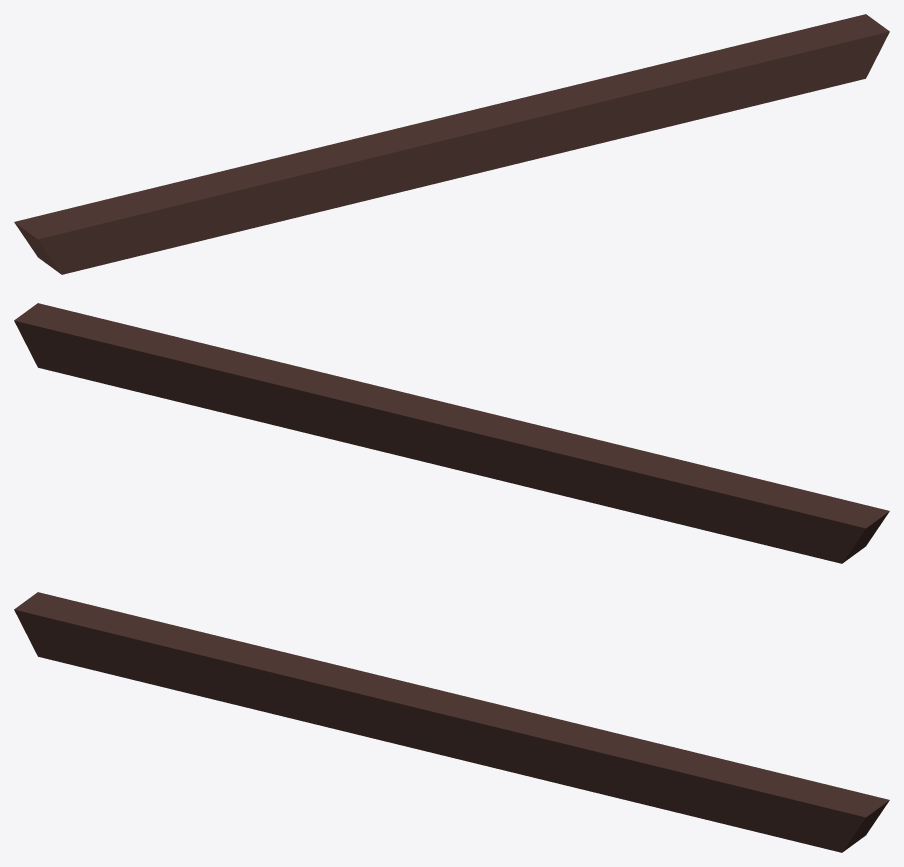
File: wood_item_030.glb
3 renders of one model, top to bottom at view 1: azimuth 30°, elevation 25°; view 2: azimuth 150°, elevation 25°; view 3: azimuth 330°, elevation 25°, orthographic.
Visible parts, largest first — view 1: wood_item_030; view 2: wood_item_030; view 3: wood_item_030.
Boxes of the visible parts, <box> form: wood_item_030: <box>14,14,889,274</box>; wood_item_030: <box>14,303,889,563</box>; wood_item_030: <box>14,592,889,852</box>.
Size of the model in its own units: 3.59 by 0.1663 by 0.1747.
Materials: 1 (1 with a texture image).
